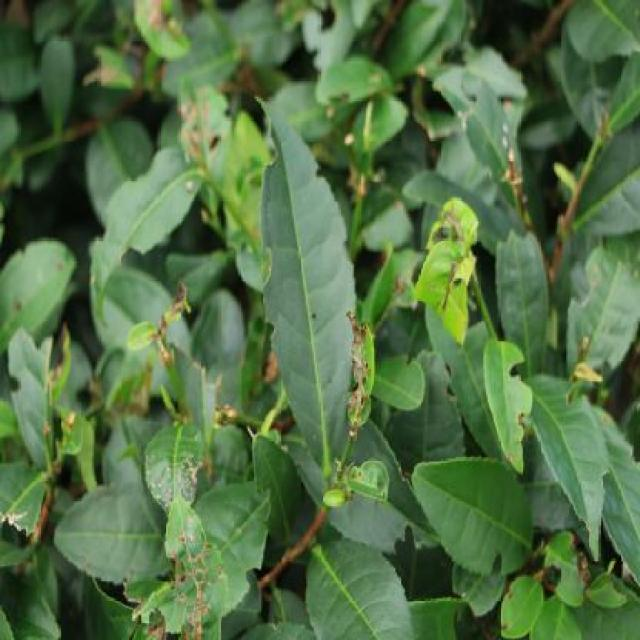Tea Mosquito bug infested leaf: (164, 517, 224, 640), (134, 436, 217, 506), (342, 310, 380, 438)
